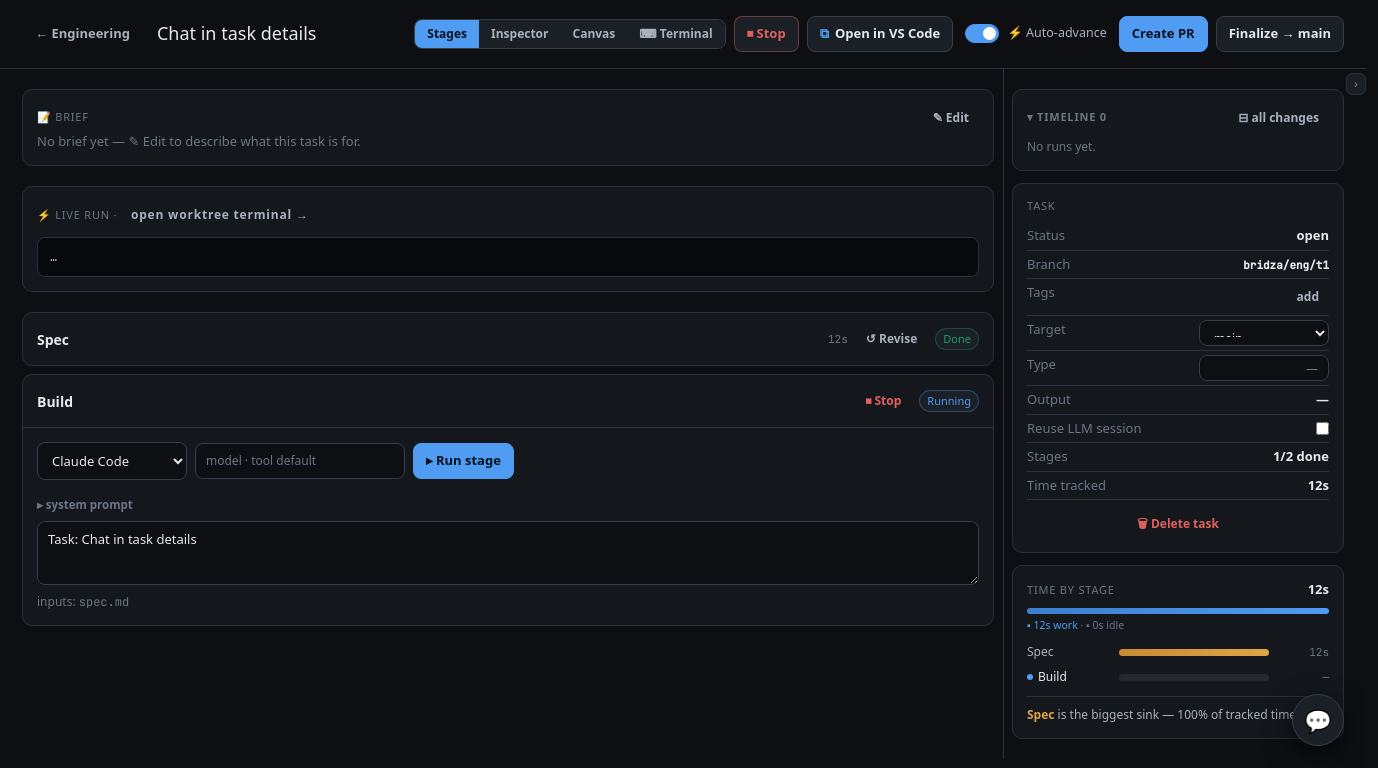
Test: one live run per task › disables the composer while a stage runs and says which one
Click the button with class "chat-bubble" at {"x": 1318, "y": 720}, box [1292,694,1344,746]
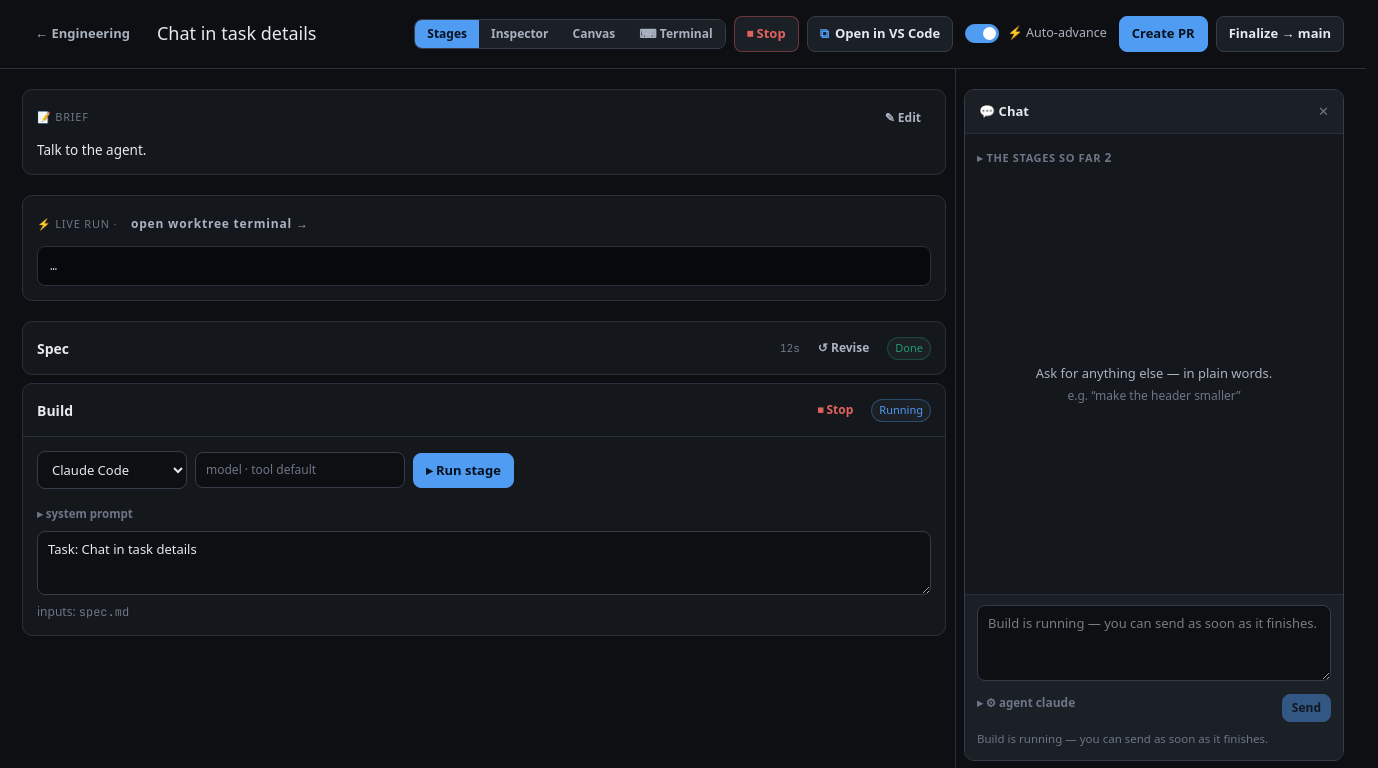
Result: the text box with class "chat-input" is disabled at [977,605,1331,681]
Result: the text with class "chat-hint" shows "Build is running" at [977,731,1268,746]
